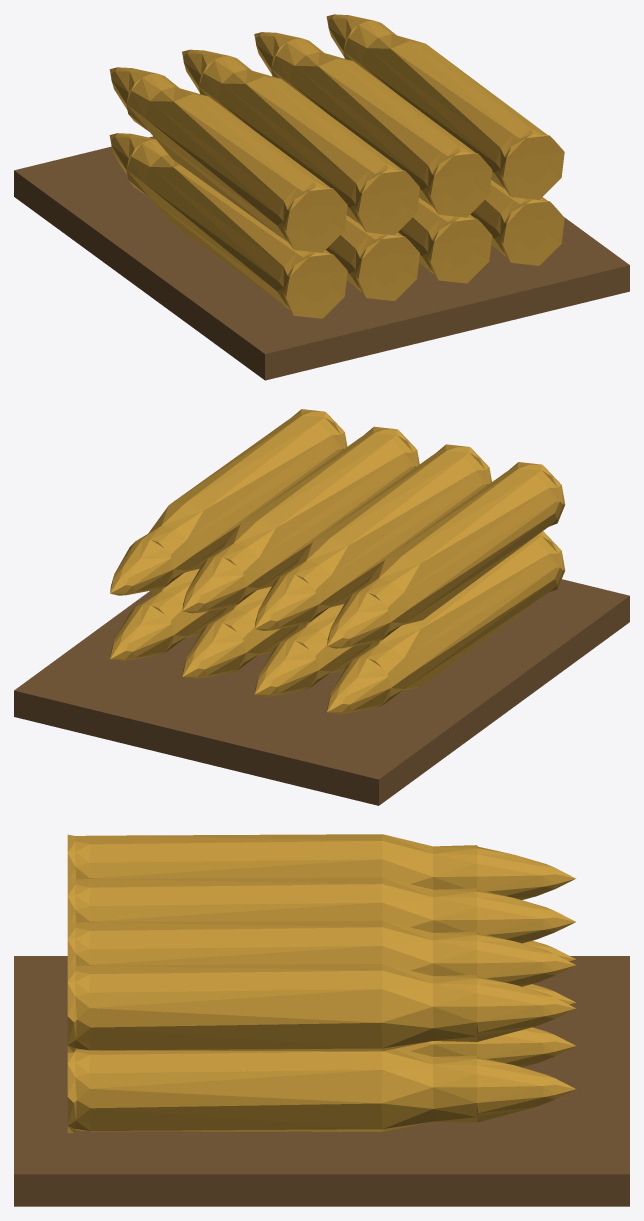
File: municao_556.glb
The picture shows the model from 3 angles, top to bottom: view 1: azimuth 30°, elevation 25°; view 2: azimuth 150°, elevation 25°; view 3: azimuth 270°, elevation 25°; orthographic projection. The views are drawn at different scales.
Parts seen in each view (by area): view 1: Cube, 243_WIM_Bullet.004, 243_WIM_Bullet.005, 243_WIM_Bullet.006, 243_WIM_Bullet.007, 243_WIM_Bullet, 243_WIM_Bullet.002, 243_WIM_Bullet.001, 243_WIM_Bullet.003; view 2: Cube, 243_WIM_Bullet.004, 243_WIM_Bullet.007, 243_WIM_Bullet.005, 243_WIM_Bullet.006, 243_WIM_Bullet, 243_WIM_Bullet.003, 243_WIM_Bullet.001, 243_WIM_Bullet.002; view 3: Cube, 243_WIM_Bullet.007, 243_WIM_Bullet.003, 243_WIM_Bullet.004, 243_WIM_Bullet.005, 243_WIM_Bullet.006, 243_WIM_Bullet.002.
Boxes of the visible parts, x1=… form: Cube: x1=14, y1=136, x2=629, y2=380; 243_WIM_Bullet.004: x1=109, y1=67, x2=347, y2=252; 243_WIM_Bullet.005: x1=182, y1=49, x2=419, y2=235; 243_WIM_Bullet.006: x1=254, y1=32, x2=492, y2=217; 243_WIM_Bullet.007: x1=326, y1=14, x2=564, y2=199; 243_WIM_Bullet: x1=109, y1=133, x2=347, y2=318; 243_WIM_Bullet.002: x1=398, y1=197, x2=492, y2=283; 243_WIM_Bullet.001: x1=326, y1=215, x2=419, y2=300; 243_WIM_Bullet.003: x1=470, y1=180, x2=564, y2=265; Cube: x1=14, y1=579, x2=629, y2=805; 243_WIM_Bullet.004: x1=327, y1=462, x2=565, y2=648; 243_WIM_Bullet.007: x1=110, y1=409, x2=347, y2=595; 243_WIM_Bullet.005: x1=254, y1=444, x2=491, y2=630; 243_WIM_Bullet.006: x1=182, y1=426, x2=419, y2=613; 243_WIM_Bullet: x1=327, y1=531, x2=565, y2=714; 243_WIM_Bullet.003: x1=110, y1=569, x2=226, y2=661; 243_WIM_Bullet.001: x1=254, y1=604, x2=371, y2=696; 243_WIM_Bullet.002: x1=182, y1=586, x2=299, y2=678; Cube: x1=14, y1=956, x2=629, y2=1206; 243_WIM_Bullet.007: x1=67, y1=964, x2=575, y2=1052; 243_WIM_Bullet.003: x1=67, y1=1048, x2=575, y2=1133; 243_WIM_Bullet.004: x1=67, y1=834, x2=575, y2=899; 243_WIM_Bullet.005: x1=67, y1=877, x2=575, y2=943; 243_WIM_Bullet.006: x1=67, y1=920, x2=575, y2=986; 243_WIM_Bullet.002: x1=398, y1=1027, x2=575, y2=1067.
Size of the model in its own units: 0.0579 by 0.0239 by 0.069.
